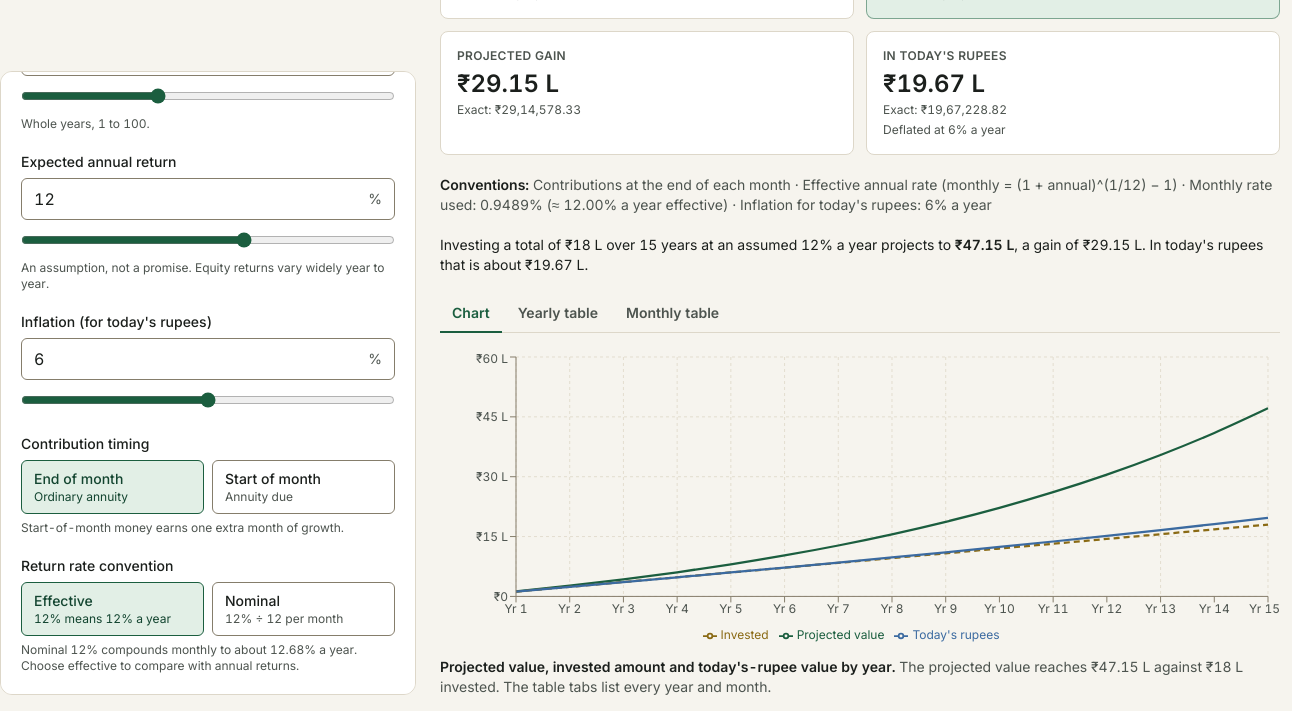
Test case: SIP calculator › switching timing to start-of-month changes the conventions line
(page scrolled)
Click the radio button labelled "Start of month Annuity due". click: (304,487)
box: [212,460,395,514]
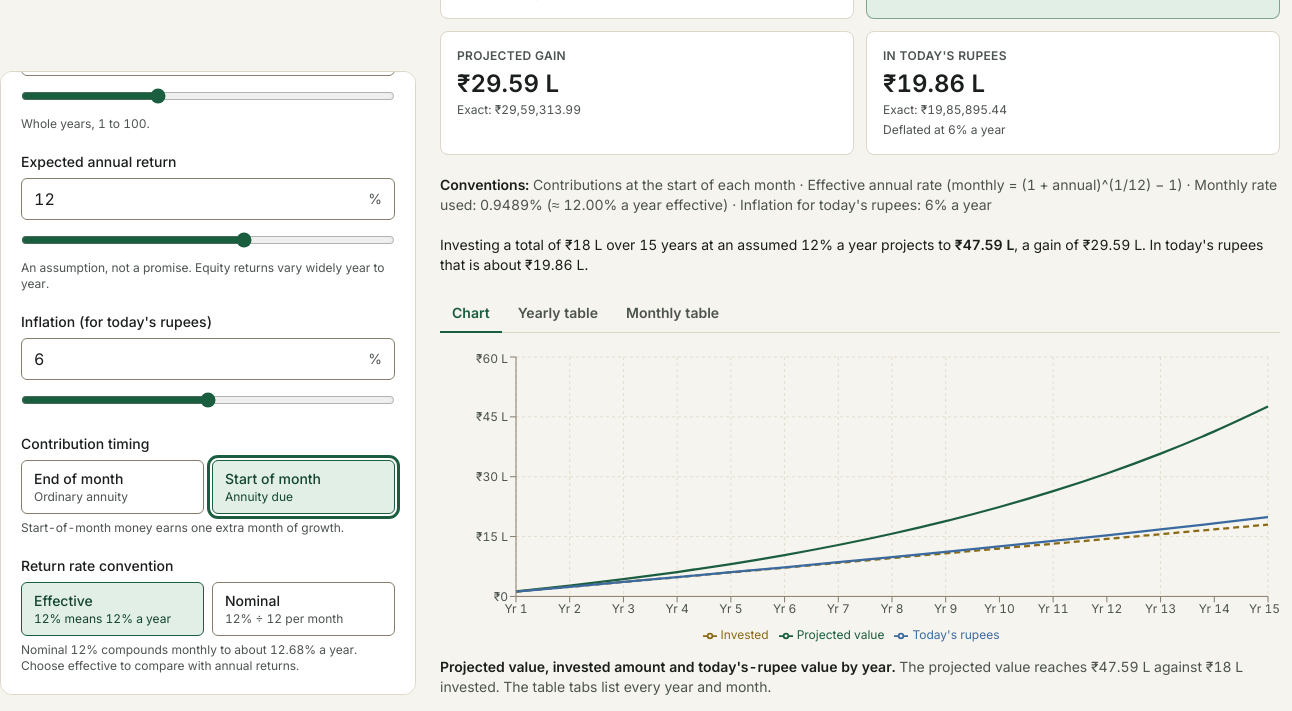
expect the element with test id "conventions" shows "Contributions at the start of each month": met, box [440,176,1277,213]
